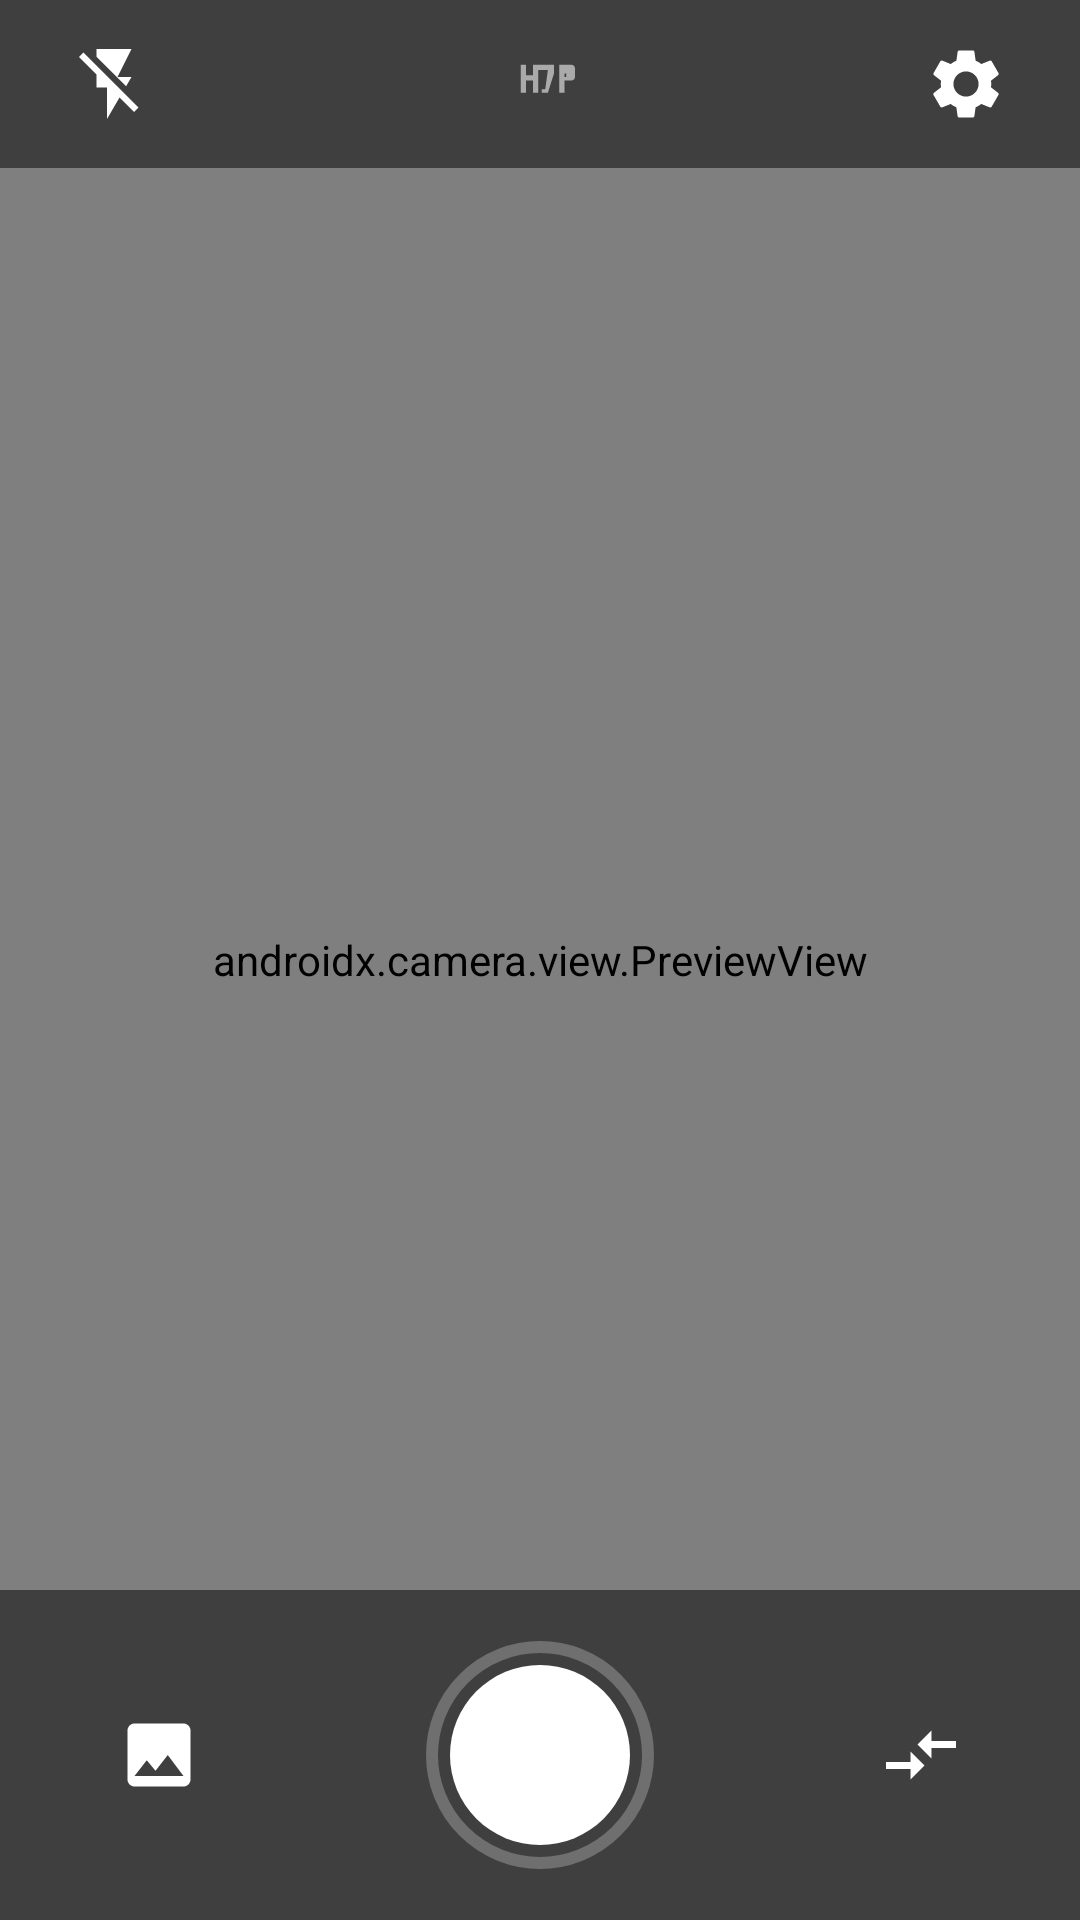

Screen size 1080×1920. Icon name, then its box in pixels as BBox(x1, y1, x2, y2):
Gallery: BBox(127, 1723, 191, 1787)
Settings: BBox(933, 50, 999, 118)
Switch Camera: BBox(886, 1730, 956, 1779)
Toggle Flash: BBox(79, 49, 139, 119)
